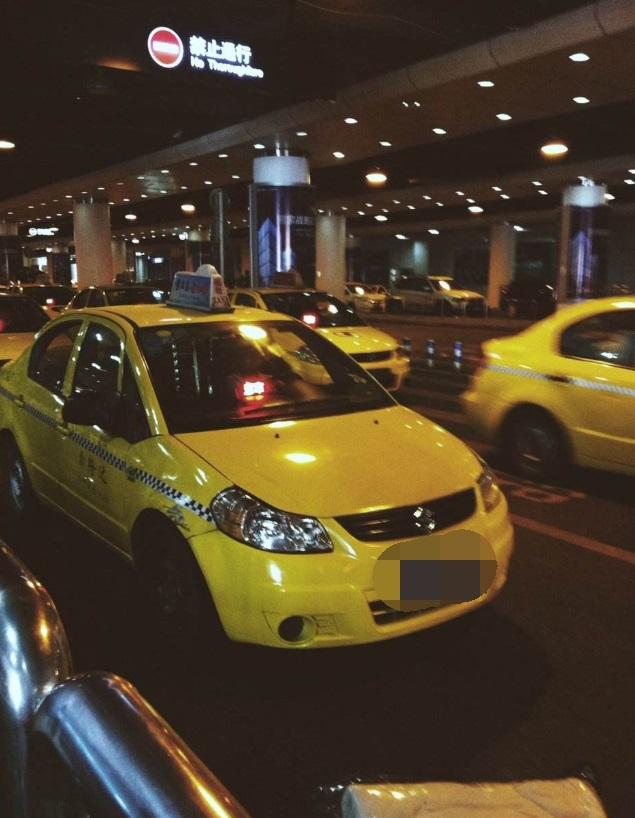taxi: (3, 262, 517, 654)
